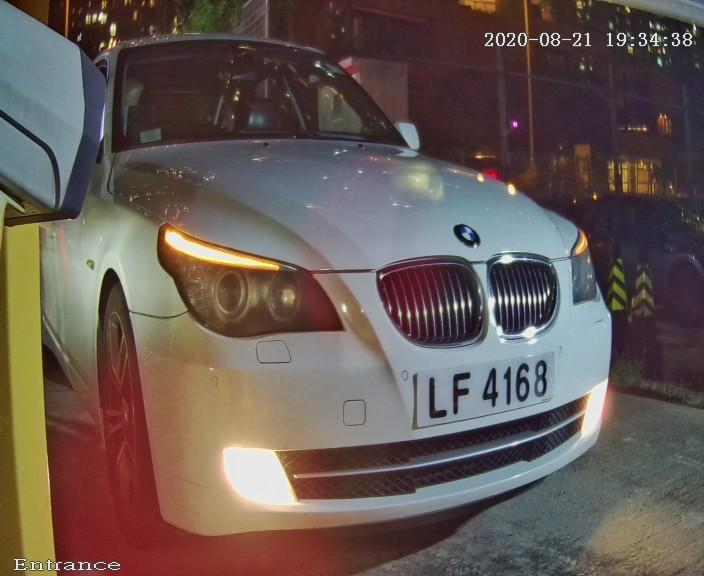Car: (26, 1, 667, 551)
License Plate: (406, 340, 573, 435)
